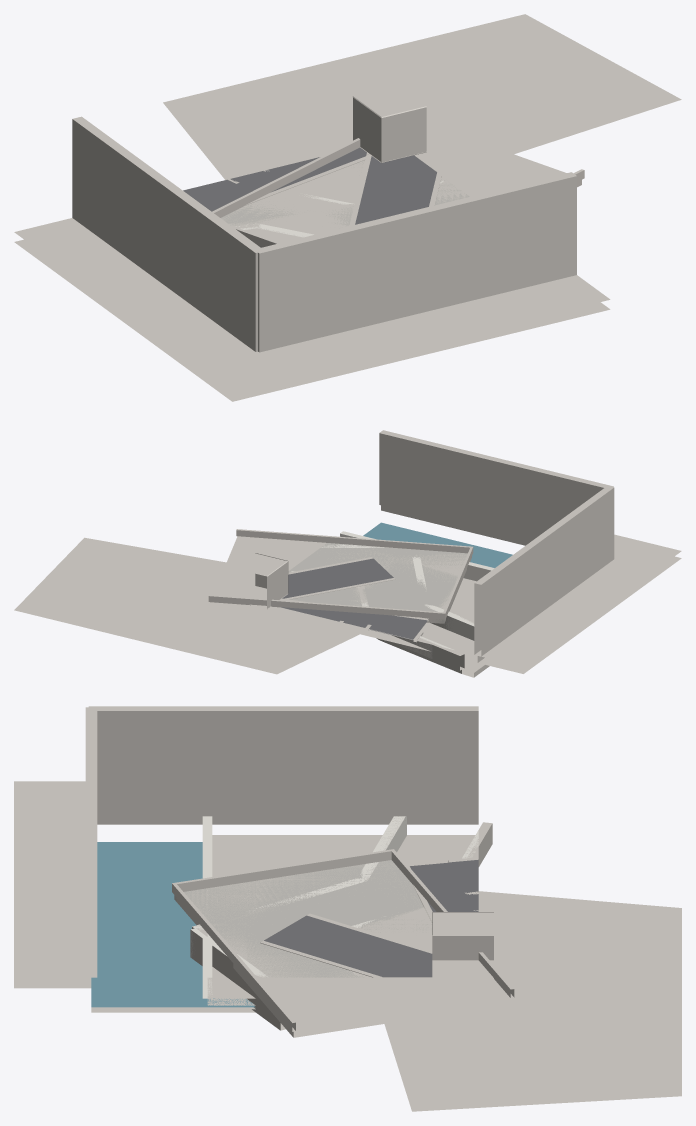
File: tile_0_0.glb
3 views of the same model, one above another, from view 1: azimuth 30°, elevation 25°; view 2: azimuth 150°, elevation 25°; view 3: azimuth 270°, elevation 25° (orthographic). The views are drawn at different scales.
Visible parts, largest first — view 1: t0_0_hlod, t0_0_c0_0_-1_concrete, t0_0_c2_0_-1_concrete, t0_0_c1_0_-1_concrete, t0_0_c0_2_-1_concrete, t0_0_c0_1_-1_concrete, t0_0_c2_2_-1_road, t0_0_c1_3_-1_road, t0_0_c3_2_-1_concrete, t0_0_c2_2_-1_concrete, t0_0_c1_3_-1_deck; view 2: t0_0_hlod, t0_0_c0_0_-1_concrete, t0_0_c0_2_-1_concrete, t0_0_c2_0_-1_concrete, t0_0_c1_0_-1_concrete, t0_0_c0_1_-1_concrete, t0_0_c2_1_-1_deck, t0_0_c2_2_-1_road, t0_0_c2_2_-1_deck, t0_0_c2_0_-1_water, t0_0_c1_1_-1_deck, t0_0_c1_3_-1_road (+8 smaller); view 3: t0_0_hlod, t0_0_c0_0_-1_concrete, t0_0_c0_2_-1_concrete, t0_0_c0_1_-1_concrete, t0_0_c2_0_-1_water, t0_0_c2_0_-1_concrete, t0_0_c0_0_-1_water, t0_0_c2_1_-1_deck, t0_0_c2_2_-1_road, t0_0_c1_0_-1_concrete, t0_0_c1_1_-1_deck, t0_0_c2_2_-1_deck (+10 smaller).
Part boxes in pixels (x1=…): t0_0_hlod: x1=163, y1=14, x2=681, y2=247; t0_0_c0_0_-1_concrete: x1=123, y1=196, x2=421, y2=401; t0_0_c2_0_-1_concrete: x1=477, y1=172, x2=610, y2=332; t0_0_c1_0_-1_concrete: x1=382, y1=195, x2=515, y2=355; t0_0_c0_2_-1_concrete: x1=14, y1=116, x2=135, y2=281; t0_0_c0_1_-1_concrete: x1=69, y1=156, x2=190, y2=321; t0_0_c2_2_-1_road: x1=298, y1=147, x2=436, y2=219; t0_0_c1_3_-1_road: x1=203, y1=162, x2=314, y2=203; t0_0_c3_2_-1_concrete: x1=319, y1=160, x2=445, y2=196; t0_0_c2_2_-1_concrete: x1=316, y1=152, x2=441, y2=206; t0_0_c1_3_-1_deck: x1=236, y1=201, x2=307, y2=223; t0_0_hlod: x1=14, y1=529, x2=489, y2=677; t0_0_c0_0_-1_concrete: x1=466, y1=463, x2=681, y2=615; t0_0_c0_2_-1_concrete: x1=386, y1=554, x2=562, y2=674; t0_0_c2_0_-1_concrete: x1=379, y1=430, x2=476, y2=589; t0_0_c1_0_-1_concrete: x1=447, y1=447, x2=519, y2=543; t0_0_c0_1_-1_concrete: x1=514, y1=525, x2=602, y2=644; t0_0_c2_1_-1_deck: x1=336, y1=543, x2=457, y2=604; t0_0_c2_2_-1_road: x1=280, y1=558, x2=383, y2=616; t0_0_c2_2_-1_deck: x1=288, y1=543, x2=396, y2=604; t0_0_c2_0_-1_water: x1=363, y1=522, x2=499, y2=567; t0_0_c1_1_-1_deck: x1=397, y1=549, x2=471, y2=611; t0_0_c1_3_-1_road: x1=318, y1=610, x2=406, y2=633; t0_0_hlod: x1=172, y1=816, x2=681, y2=1111; t0_0_c0_0_-1_concrete: x1=14, y1=706, x2=246, y2=879; t0_0_c0_2_-1_concrete: x1=362, y1=706, x2=478, y2=866; t0_0_c0_1_-1_concrete: x1=246, y1=706, x2=362, y2=851; t0_0_c2_0_-1_water: x1=91, y1=907, x2=246, y2=1007; t0_0_c2_0_-1_concrete: x1=14, y1=823, x2=246, y2=1012; t0_0_c0_0_-1_water: x1=97, y1=842, x2=202, y2=907; t0_0_c2_1_-1_deck: x1=216, y1=879, x2=362, y2=958; t0_0_c2_2_-1_road: x1=264, y1=928, x2=432, y2=977; t0_0_c1_0_-1_concrete: x1=14, y1=774, x2=97, y2=928; t0_0_c1_1_-1_deck: x1=174, y1=864, x2=362, y2=928; t0_0_c2_2_-1_deck: x1=246, y1=928, x2=431, y2=977.
Size of what is drawn, in the model's own units: 404 by 80 by 345.
